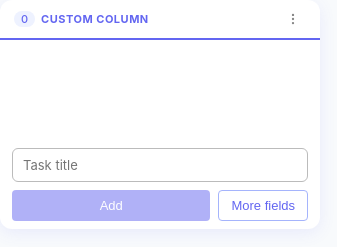
Scenario: ColumnCard › Custom column shows kebab menu › custom column shows kebab menu button
Click the button named "Menu": (293, 19) left=280, top=10, right=306, bottom=28
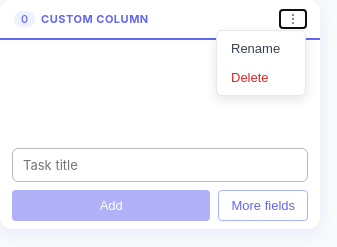
Result: the button "Rename" is shown at left=221, top=35, right=301, bottom=62
Result: the button "Delete" is shown at left=221, top=64, right=301, bottom=91
